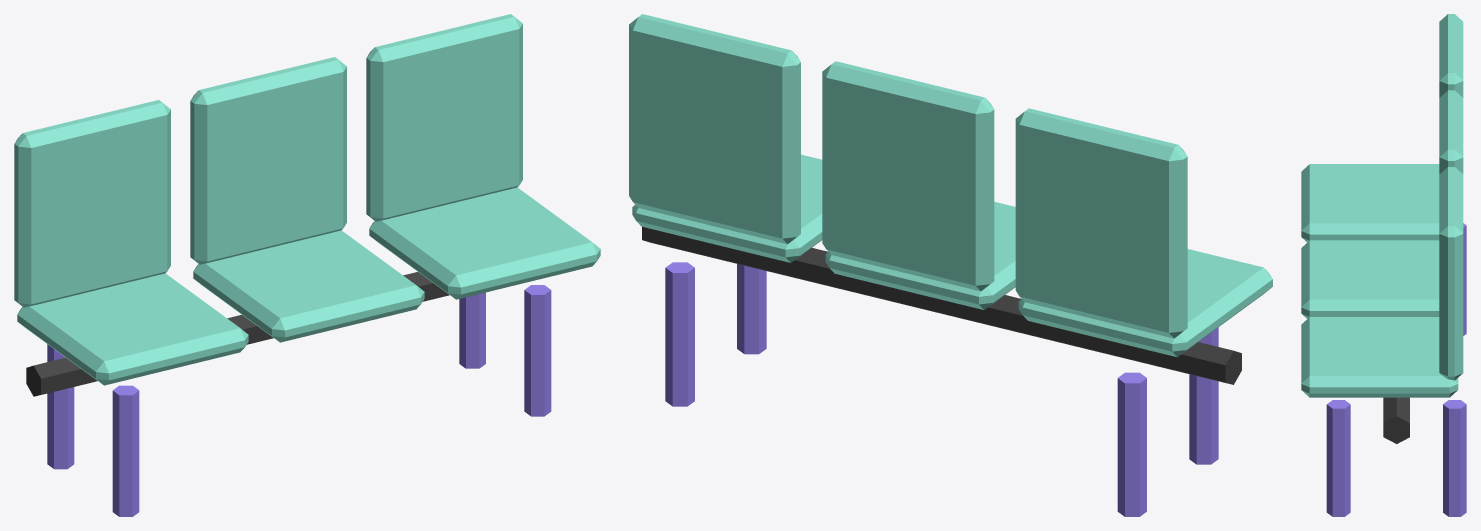
3 views of the same model, side by side, from view 1: azimuth 30°, elevation 25°; view 2: azimuth 150°, elevation 25°; view 3: azimuth 270°, elevation 25° (orthographic). The views are drawn at different scales.
Parts seen in each view (by area): view 1: Back.002, Back, Back.001, Seat.002, Seat, Seat.001, Leg, Leg.002, Cross beam, Leg.001, Leg.003; view 2: Back.001, Back, Back.002, Cross beam, Seat, Seat.001, Seat.002, Leg.003, Leg.001, Leg, Leg.002; view 3: Seat.002, Seat.001, Seat, Back.002, Leg.002, Leg.003, Back.001, Back, Cross beam, Leg.001.
Part boxes in pixels (left/top/right/bottom): Back.002: left=366, top=14, right=522, bottom=221; Back: left=14, top=100, right=170, bottom=307; Back.001: left=190, top=57, right=346, bottom=264; Seat.002: left=369, top=187, right=600, bottom=299; Seat: left=17, top=273, right=248, bottom=385; Seat.001: left=193, top=230, right=424, bottom=342; Leg: left=112, top=385, right=139, bottom=516; Leg.002: left=524, top=285, right=551, bottom=416; Cross beam: left=26, top=272, right=449, bottom=396; Leg.001: left=47, top=344, right=74, bottom=469; Leg.003: left=459, top=292, right=485, bottom=368; Back.001: left=822, top=61, right=994, bottom=291; Back: left=1015, top=108, right=1187, bottom=338; Back.002: left=629, top=14, right=800, bottom=244; Cross beam: left=642, top=226, right=1241, bottom=384; Seat: left=1018, top=249, right=1272, bottom=357; Seat.001: left=825, top=202, right=1015, bottom=309; Seat.002: left=632, top=154, right=822, bottom=262; Leg.003: left=665, top=262, right=694, bottom=406; Leg.001: left=1117, top=372, right=1146, bottom=516; Leg: left=1189, top=327, right=1218, bottom=464; Leg.002: left=737, top=264, right=766, bottom=354; Seat.002: left=1301, top=317, right=1458, bottom=397; Seat.001: left=1301, top=240, right=1439, bottom=318; Seat: left=1301, top=164, right=1439, bottom=242; Back.002: left=1439, top=167, right=1463, bottom=380; Leg.002: left=1326, top=400, right=1350, bottom=516; Leg.003: left=1443, top=400, right=1466, bottom=516; Back.001: left=1439, top=90, right=1463, bottom=174; Back: left=1439, top=14, right=1463, bottom=97; Cross beam: left=1383, top=397, right=1409, bottom=443; Leg.001: left=1463, top=223, right=1466, bottom=335.
Size of the model in its own units: 160 by 98 by 48.5.
